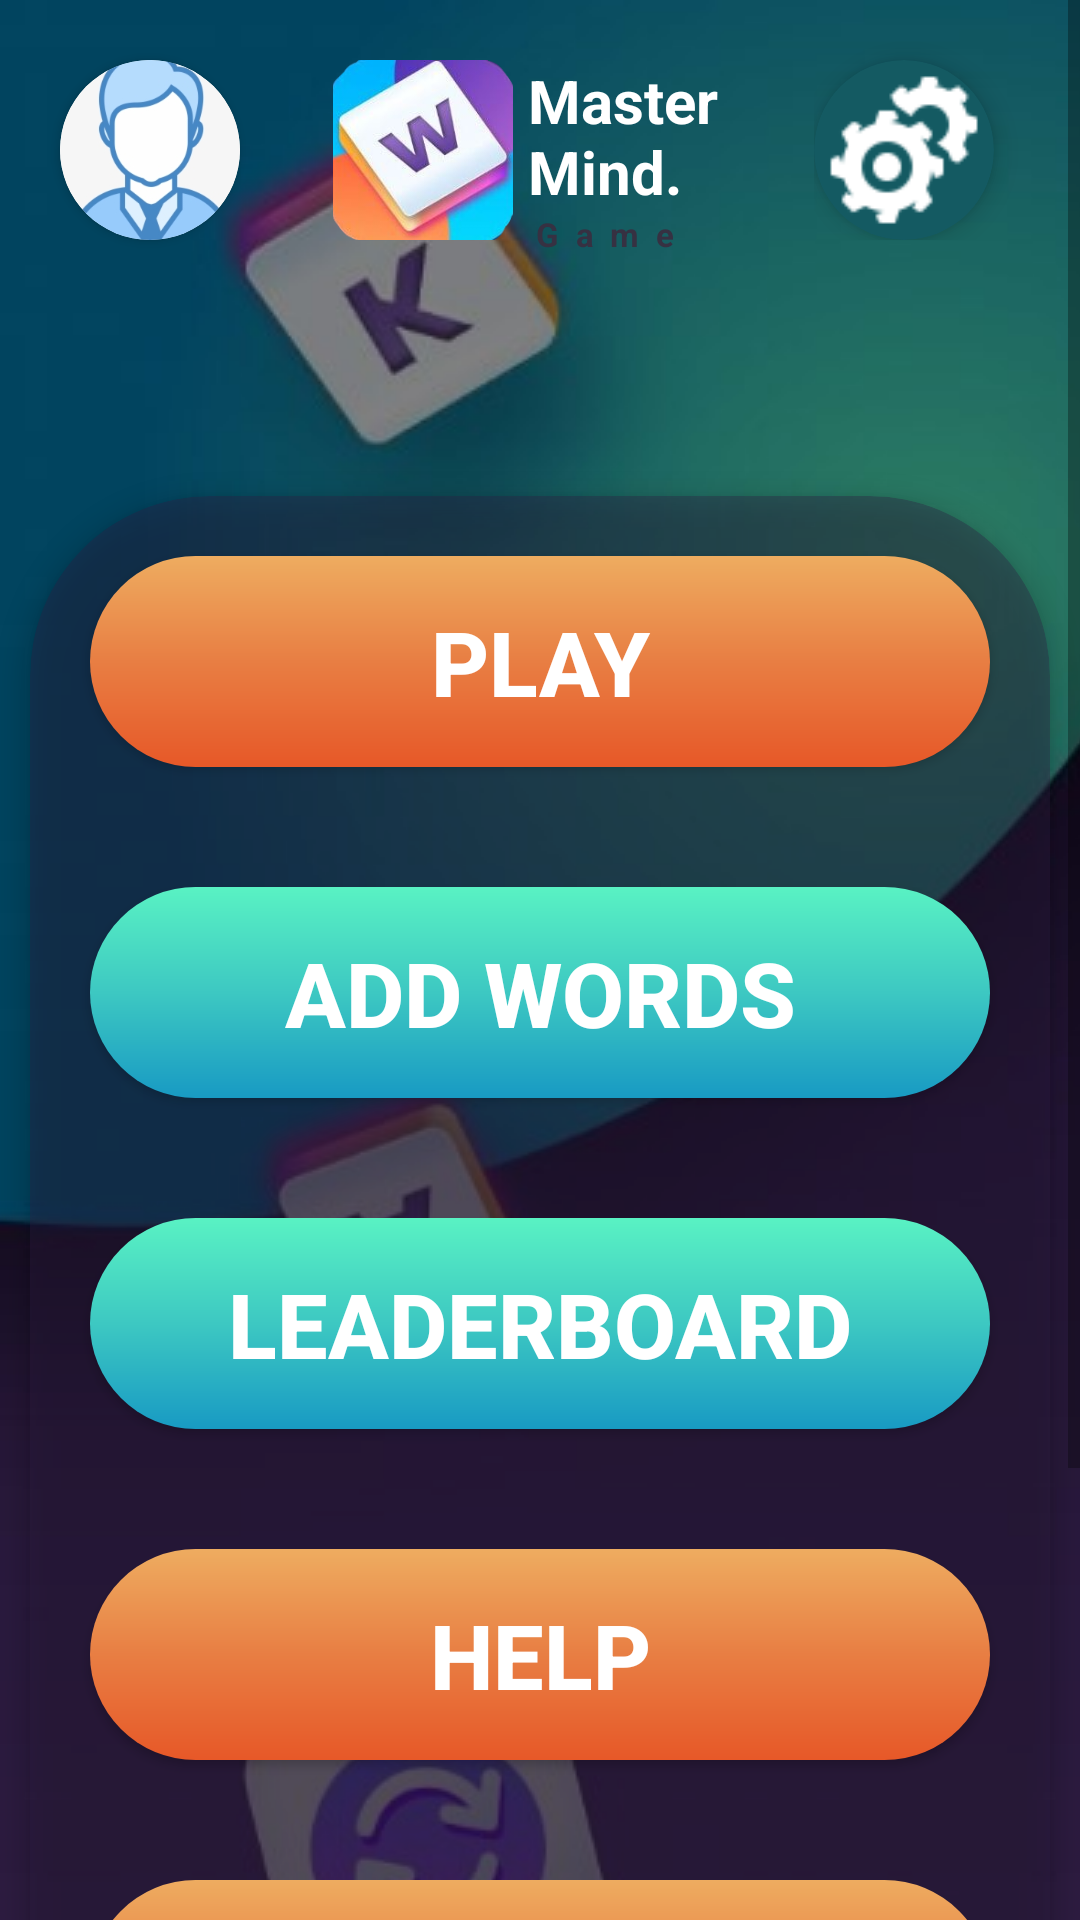

Screen size 1080x1920. Icon name, then its center in pixels as point (x, y):
settingsicon: point (904, 150)
usericon: point (150, 150)
